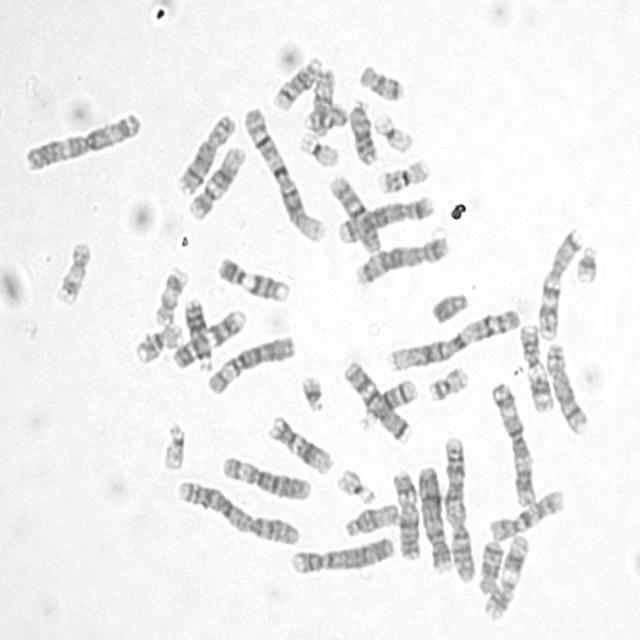A1: (240, 101, 327, 242), (382, 302, 522, 372)
A2: (172, 472, 302, 547), (438, 428, 477, 584)
A3: (18, 105, 144, 173), (487, 376, 538, 508)
B4: (285, 530, 396, 576), (413, 460, 453, 573)
B5: (333, 189, 435, 245), (351, 231, 451, 286)
C10: (324, 168, 383, 255), (483, 483, 566, 542)
C11: (478, 527, 532, 622), (514, 317, 555, 414)
C12: (182, 138, 248, 222), (263, 408, 335, 476)
C6: (202, 328, 296, 396), (217, 449, 312, 502)
C7: (338, 353, 412, 443), (533, 222, 583, 341)
C8: (172, 107, 237, 196), (542, 337, 590, 436)
C9: (167, 302, 248, 371), (212, 250, 292, 303)
D13: (179, 292, 217, 372), (344, 94, 378, 166)
D14: (355, 372, 419, 432), (267, 50, 323, 111)
D15: (339, 496, 401, 538), (304, 63, 338, 136)
E16: (128, 316, 184, 365), (372, 150, 431, 194)
E17: (48, 234, 92, 307), (150, 262, 190, 328)
E18: (353, 56, 406, 102), (473, 534, 504, 596)
F19: (370, 106, 415, 154), (294, 125, 340, 169)
F20: (422, 359, 471, 403), (300, 98, 349, 134)
G21: (570, 237, 600, 284), (296, 368, 326, 412)
G22: (331, 462, 378, 506), (156, 416, 188, 472)
X: (388, 464, 422, 561)
Y: (426, 286, 471, 326)
